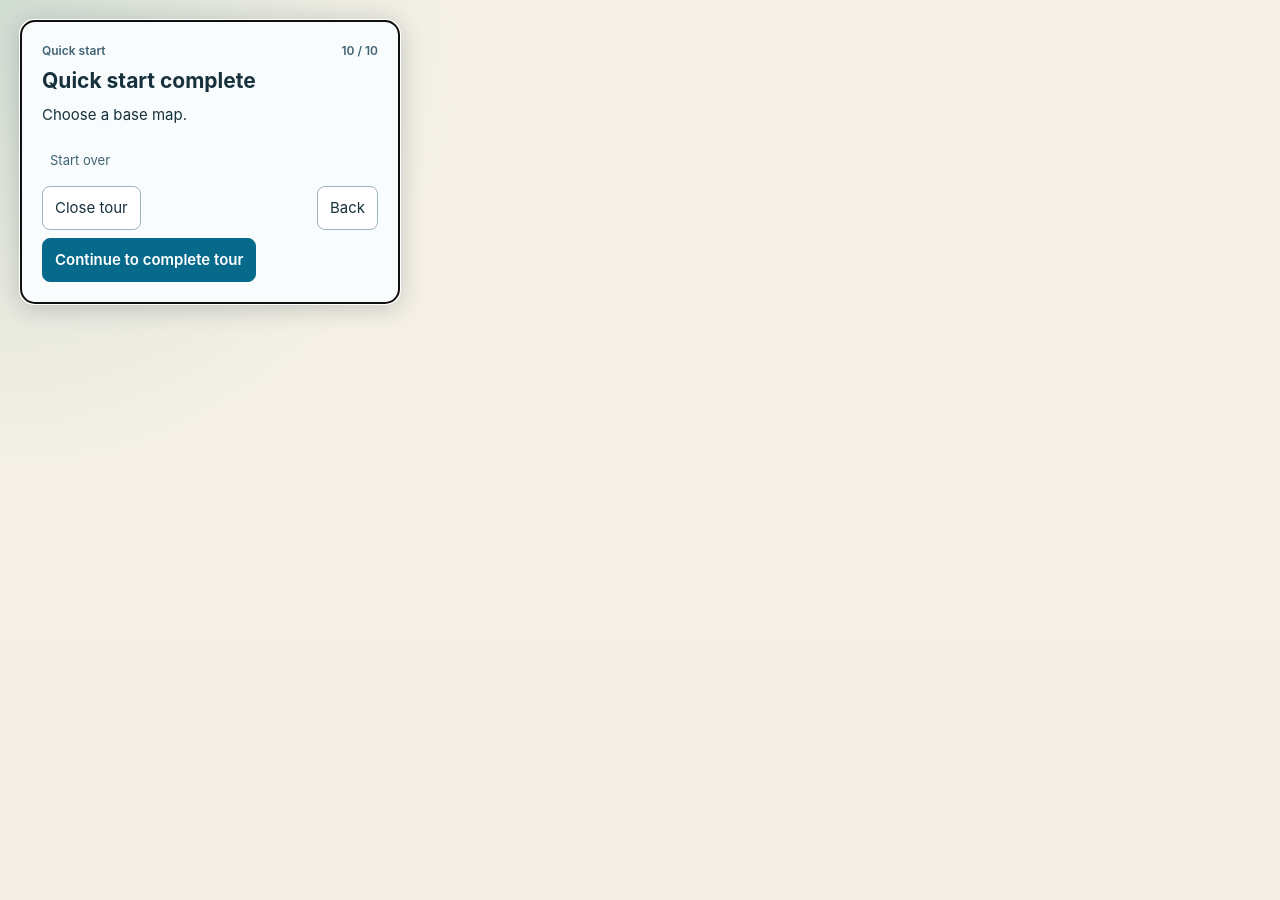
Scenario: renders core's section progress and continuation label, including the first complete-tour title card
Expected: the element with class "guidedTourChapter" shows "10 / 10", left=42, top=42, right=378, bottom=59
Click the button with test id "guided-tour-next": (149, 260) left=42, top=238, right=256, bottom=282
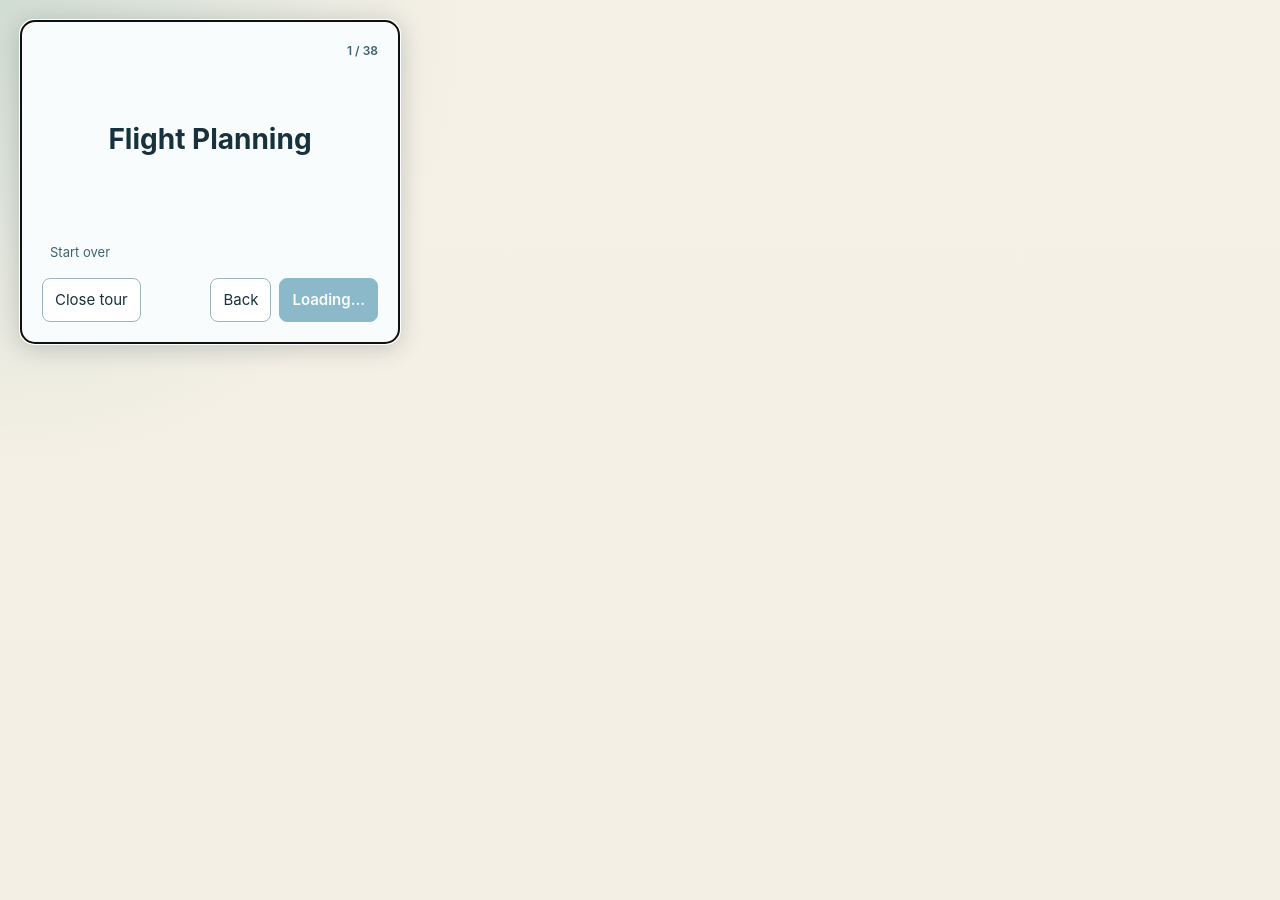
Expected: the element with class "guidedTourChapter" reads "1 / 38", left=347, top=43, right=378, bottom=58
